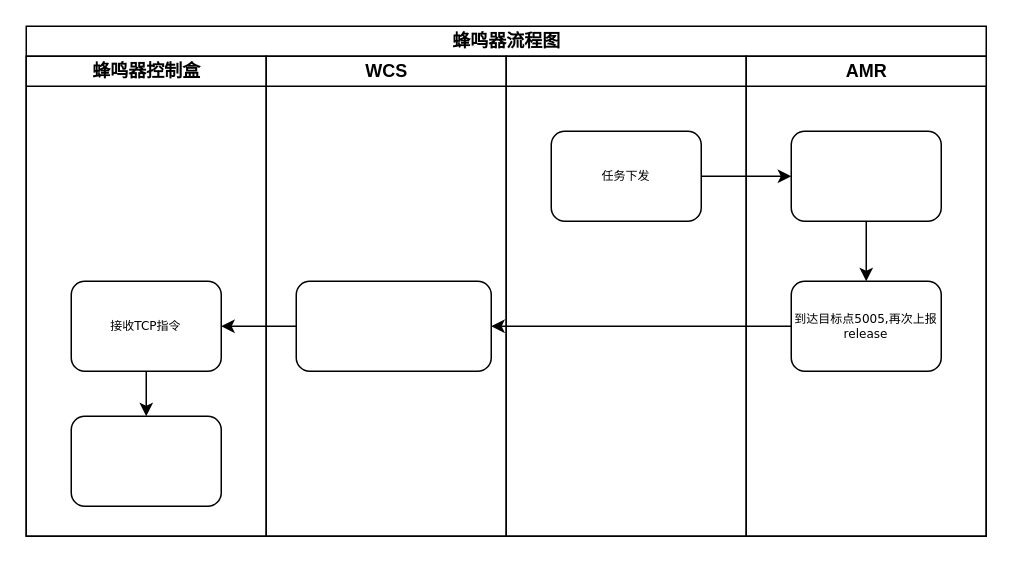
Image size: 1013x563. Some labels were removed from this diagram. The box of each missing label's shape, as (x1, y1, x2, y2) in pixels:
CMS: (505, 55, 746, 536)
到达目标点5005,先上报applyFromAgv: (790, 130, 941, 221)
触发DO闭合(蜂鸣器响): (70, 415, 221, 506)
触发wcs_protocol_message.json文件中的配置项，发送TCP指令: (295, 280, 491, 371)
